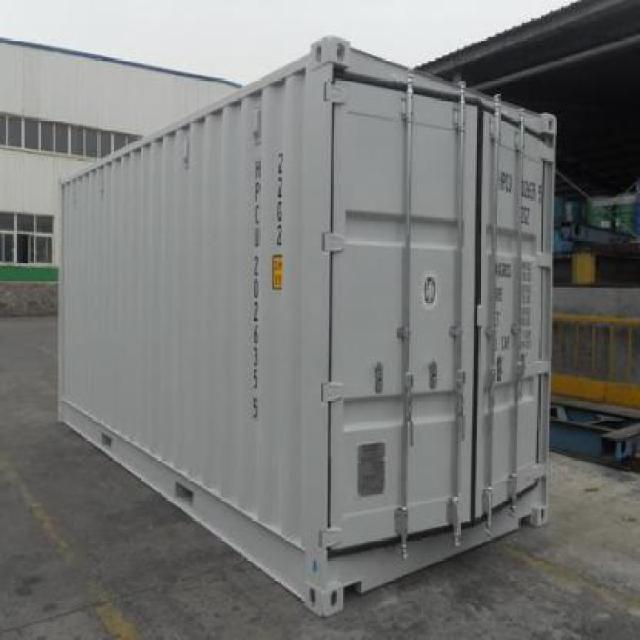ISO: (518, 202, 534, 224)
container_number: (488, 168, 550, 200)
